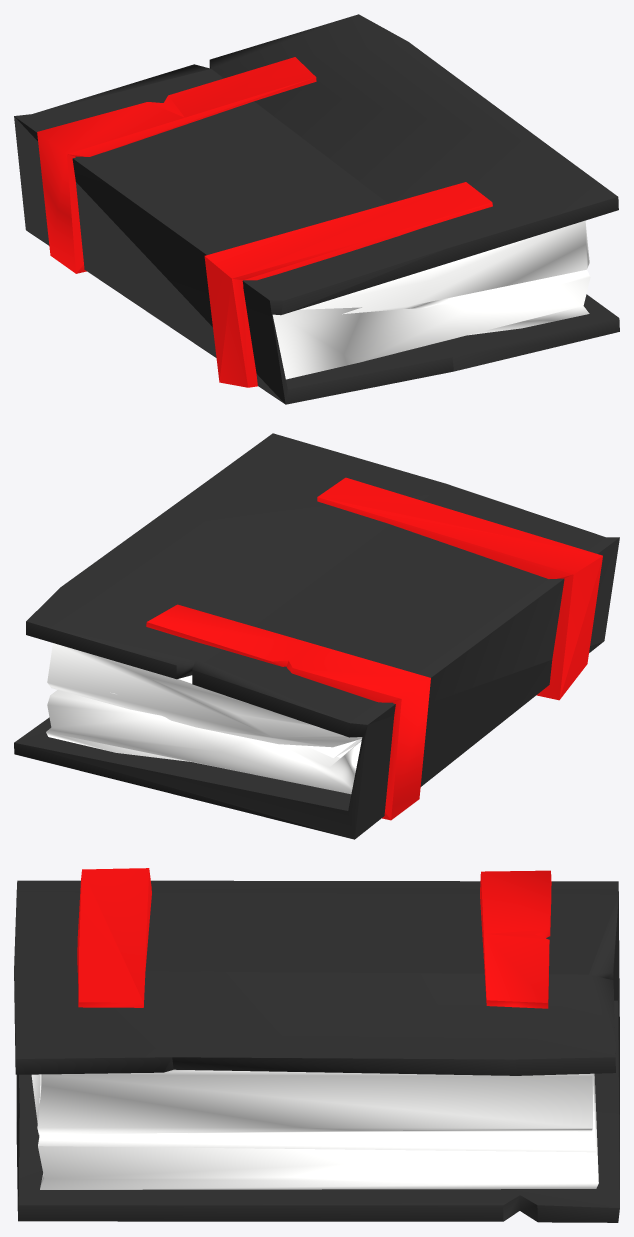
Rendered from CyberPunkGuestBookClosed.002.glb.
3 views of the same model, one above another, from view 1: azimuth 30°, elevation 25°; view 2: azimuth 150°, elevation 25°; view 3: azimuth 270°, elevation 25° (orthographic). The views are drawn at different scales.
Visible parts, largest first — view 1: CyberPunkGuestBookClosed.002; view 2: CyberPunkGuestBookClosed.002; view 3: CyberPunkGuestBookClosed.002.
Part boxes in pixels (x1,y1,x2,y2): CyberPunkGuestBookClosed.002: (14, 14, 619, 404); CyberPunkGuestBookClosed.002: (14, 433, 619, 839); CyberPunkGuestBookClosed.002: (14, 868, 619, 1222).
Size of what is drawn, in the model's own units: 0.2654 by 0.1053 by 0.3243.
Materials: 2 (2 with a texture image).
